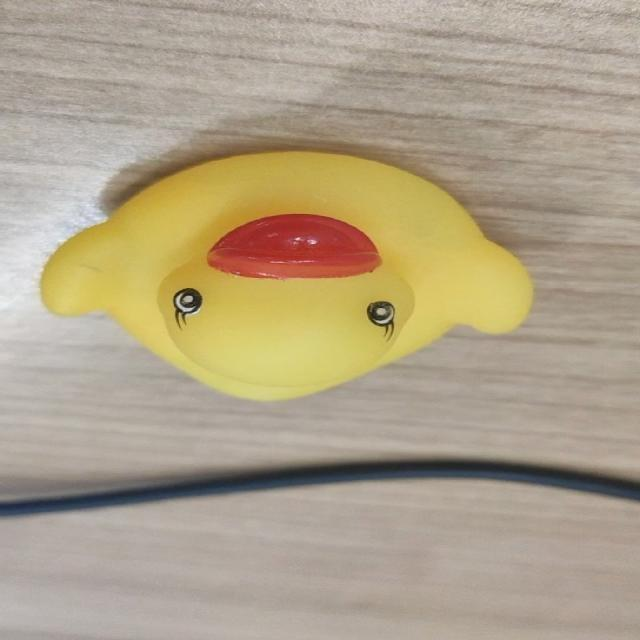rubber-duck: (41, 151, 530, 398)
